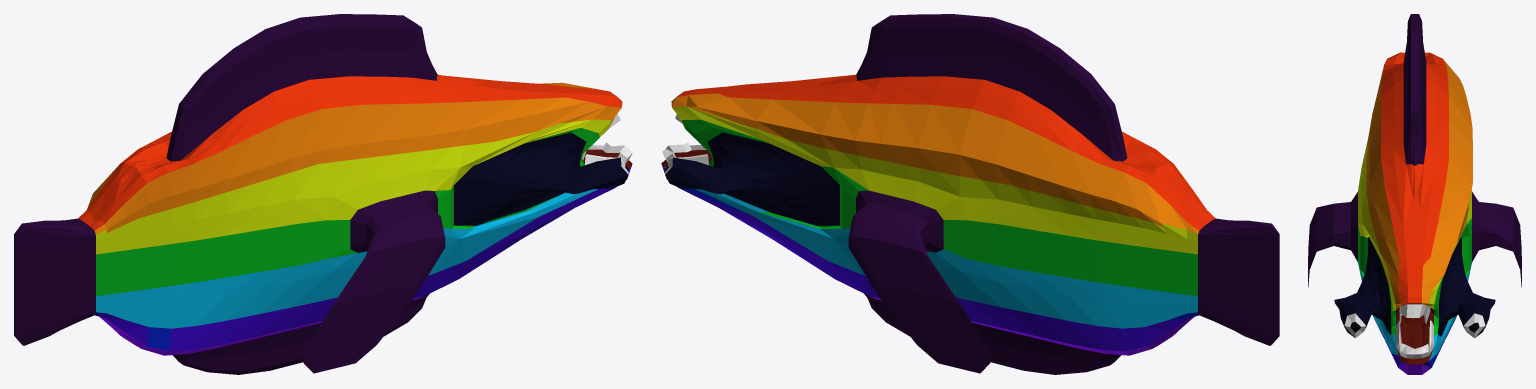
Rendered from PezPeligrosoX.fbx.
The picture shows the model from 3 angles, left to right: view 1: azimuth 30°, elevation 25°; view 2: azimuth 150°, elevation 25°; view 3: azimuth 270°, elevation 25°; orthographic projection. The views are drawn at different scales.
Visible parts, largest first — view 1: PezPeligroso; view 2: PezPeligroso; view 3: PezPeligroso.
Boxes of the visible parts, bbox=[...] form: PezPeligroso: bbox=[14, 14, 632, 374]; PezPeligroso: bbox=[661, 14, 1279, 374]; PezPeligroso: bbox=[1308, 14, 1521, 374].
Bounding box in the file's own units: 28130 × 14943 × 9634.
